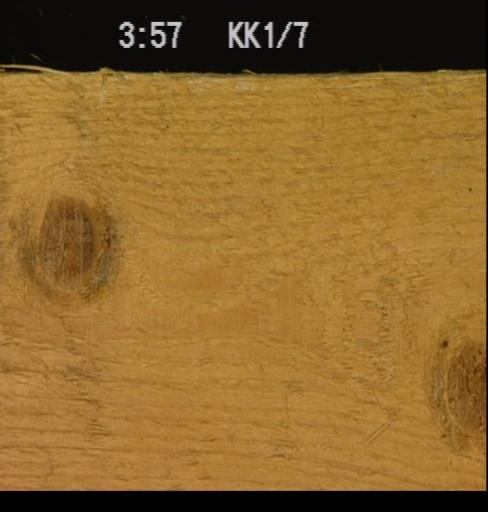sound_knot: (19, 191, 126, 304), (423, 329, 485, 458)
